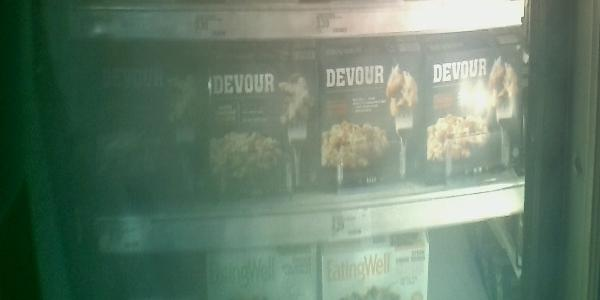pizza1: (85, 68, 204, 207), (207, 68, 318, 204), (320, 66, 428, 193), (429, 53, 525, 185)
